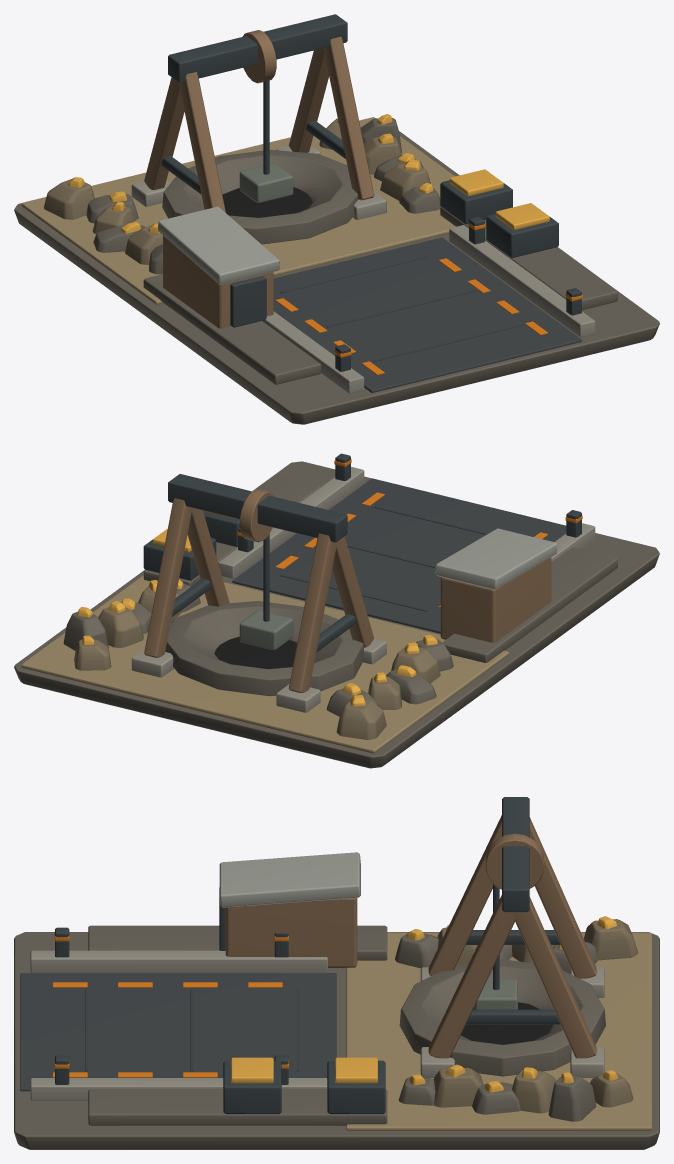
The model's file is mine.glb.
3 renders of one model, top to bottom at view 1: azimuth 30°, elevation 25°; view 2: azimuth 150°, elevation 25°; view 3: azimuth 270°, elevation 25°, orthographic. The views are drawn at different scales.
Parts seen in each view (by area): view 1: MineShell; view 2: MineShell; view 3: MineShell.
Part boxes in pixels (left/top/right/bottom): MineShell: left=14, top=14, right=659, bottom=424; MineShell: left=14, top=453, right=659, bottom=768; MineShell: left=14, top=797, right=659, bottom=1149.
Size of the model in its own units: 2.97 by 1.45 by 3.97.
